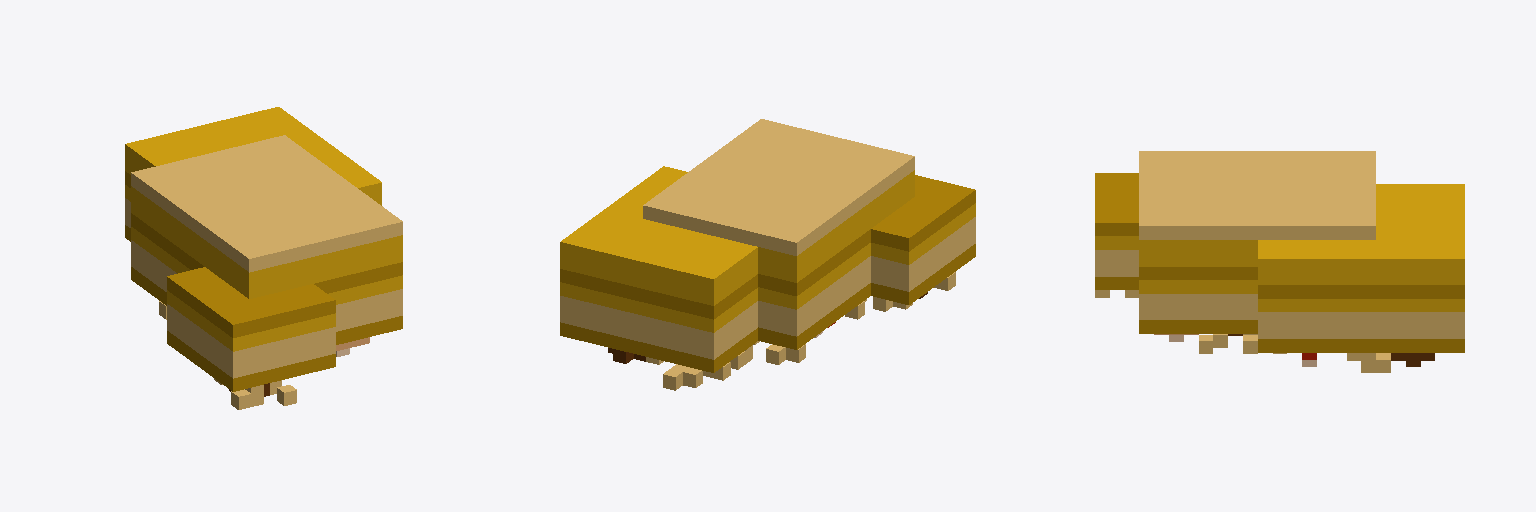
3 views of the same model, side by side, from view 1: azimuth 30°, elevation 25°; view 2: azimuth 150°, elevation 25°; view 3: azimuth 270°, elevation 25° (orthographic).
Visible parts, largest first — view 1: object 1; view 2: object 1; view 3: object 1.
Boxes of the visible parts, <box> form: object 1: <box>125,107,402,409</box>; object 1: <box>560,119,975,390</box>; object 1: <box>1095,151,1464,372</box>.
Bounding box in the file's own units: 1.8 × 1 × 2.5.
1 materials, 1 textured.